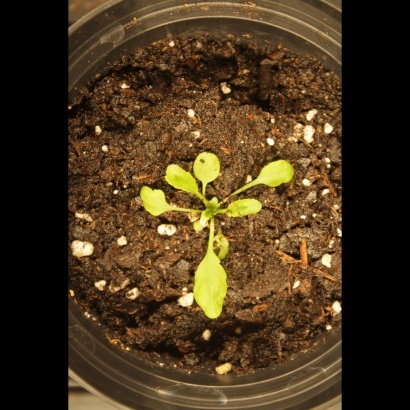leaf: (191, 245, 232, 323), (131, 177, 175, 225), (253, 154, 303, 195), (158, 159, 205, 199), (225, 192, 270, 225), (190, 147, 226, 187), (200, 195, 223, 226)
